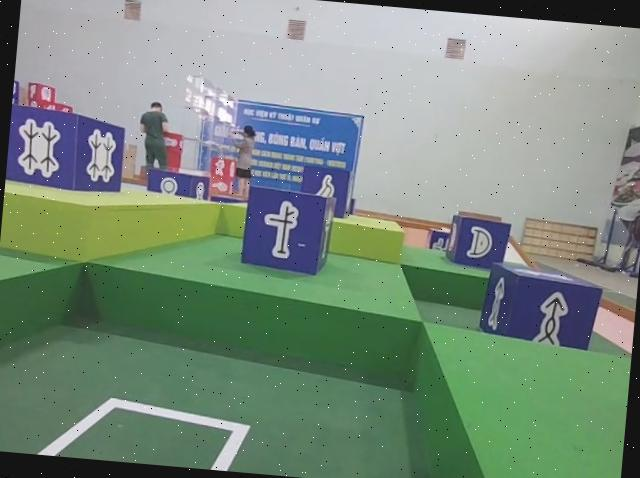R2 Real Blue: (480, 263, 607, 352), (4, 104, 126, 196), (241, 185, 336, 278), (443, 213, 509, 271), (295, 162, 353, 219), (144, 166, 208, 197)
